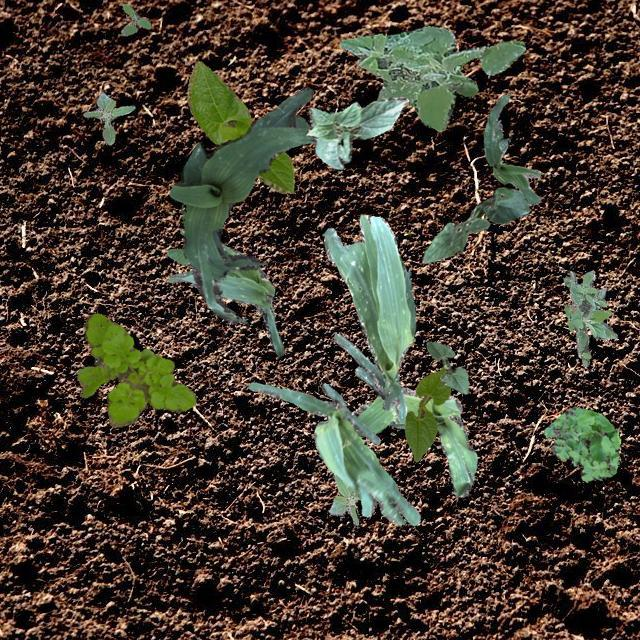crop: (170, 86, 312, 322), (246, 382, 419, 524), (322, 214, 414, 422), (185, 61, 292, 192), (354, 386, 476, 496), (165, 244, 282, 354), (421, 186, 528, 262), (306, 96, 408, 168), (482, 92, 540, 204), (404, 366, 449, 460), (426, 340, 468, 392)
weed: (340, 24, 524, 130), (76, 313, 196, 427), (542, 406, 620, 482), (562, 270, 616, 366), (82, 92, 134, 144), (328, 472, 358, 524), (120, 2, 150, 34)
